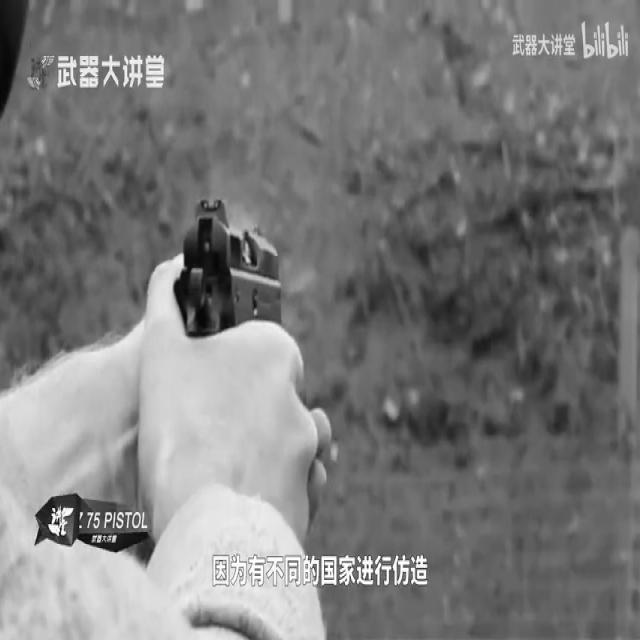Hand-Gun: (174, 175, 287, 355)
